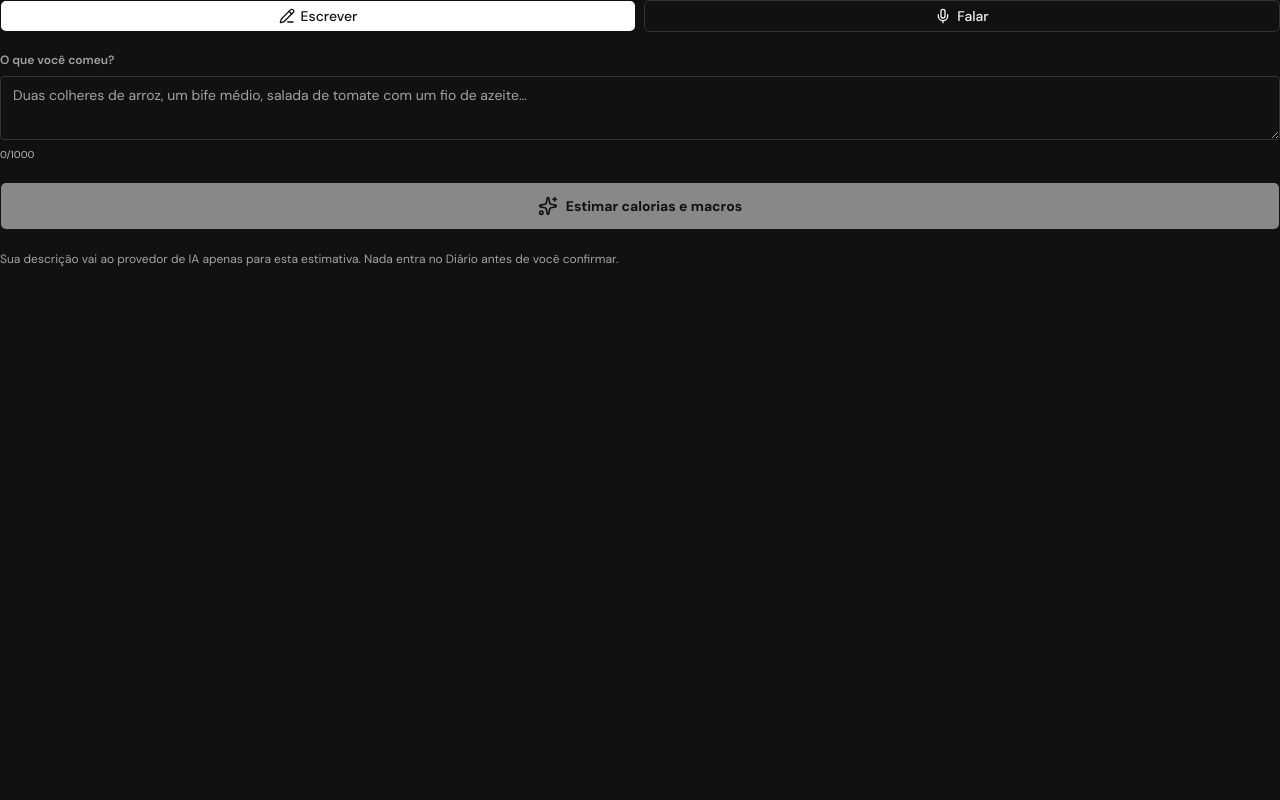
Test case: RegistroPorDescricao › avisa antes de substituir um Consumo Real existente, e cancelar não grava
Type "arroz e bife" into the text box named "Descrição da refeição".
click(640, 108); type("arroz e bife")  # box [0, 76, 1279, 140]
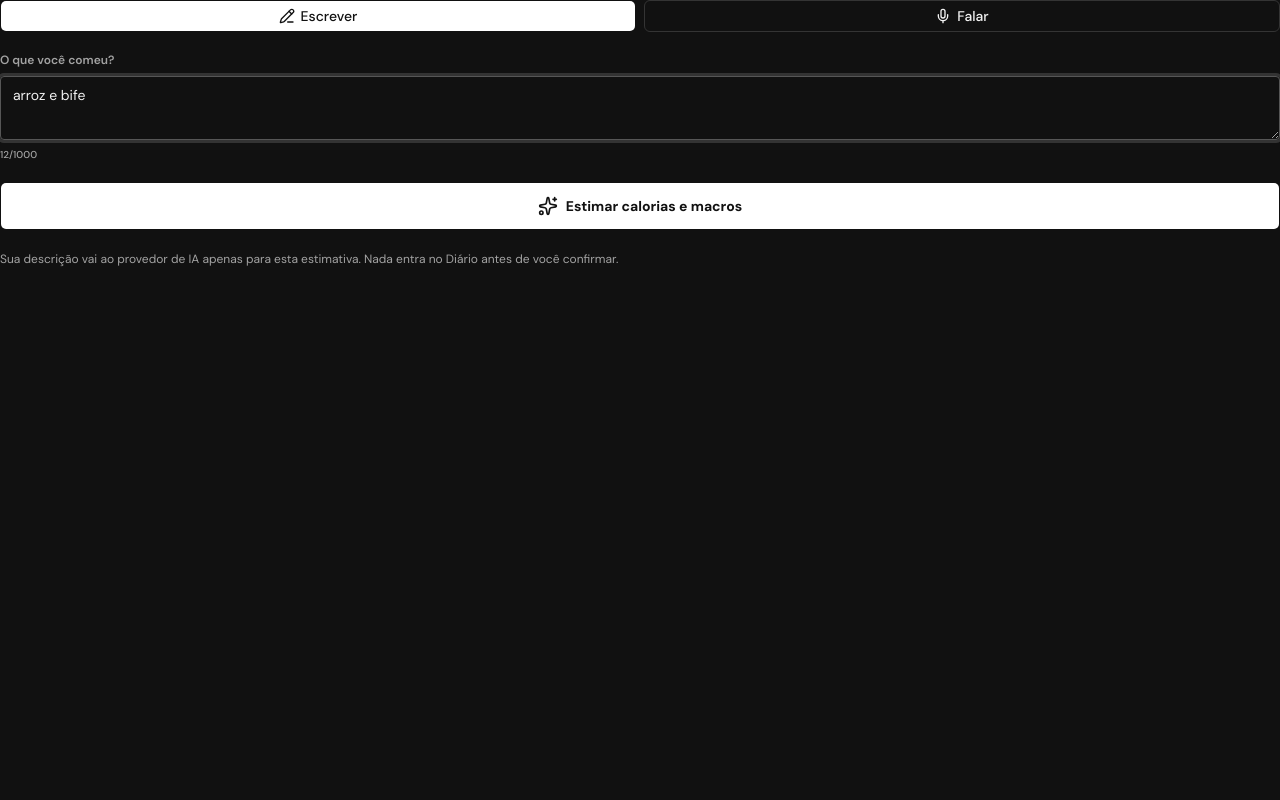
Click the button "Estimar calorias e macros".
click(640, 206)  # box [0, 182, 1279, 230]
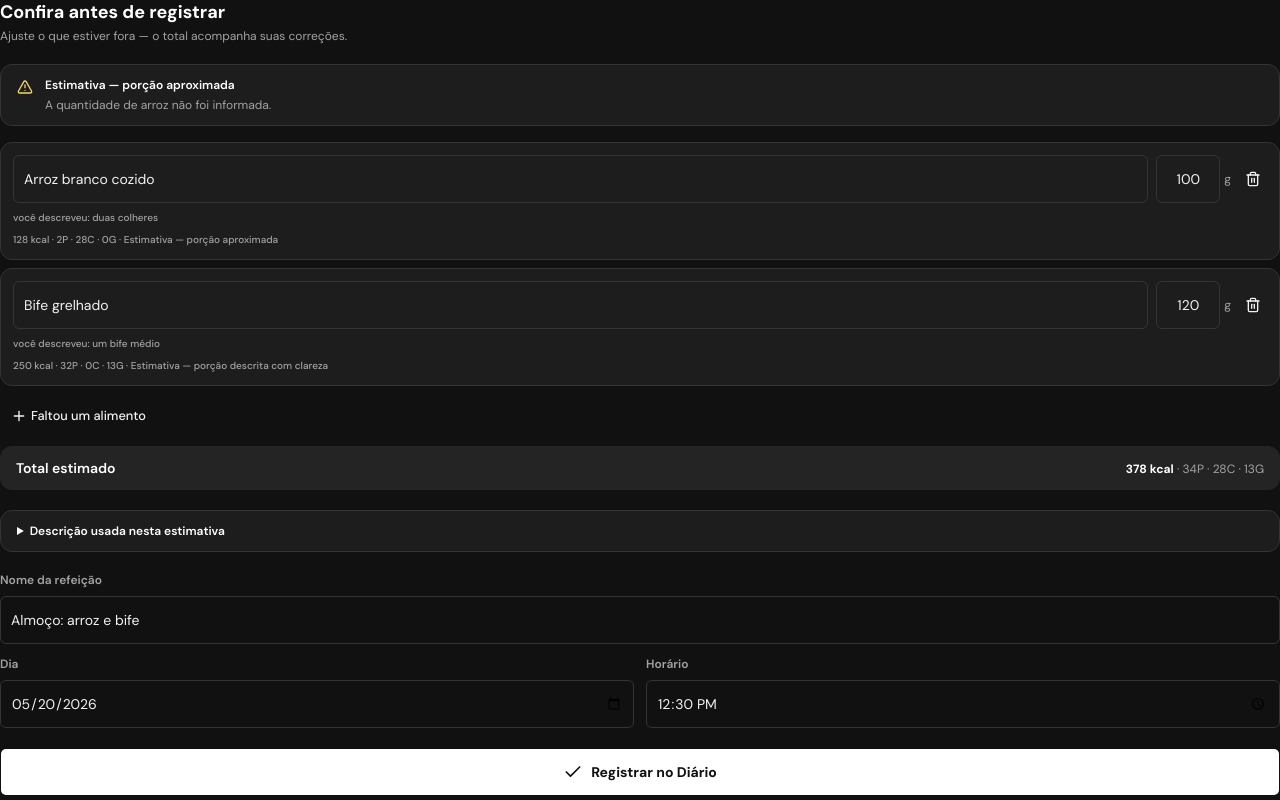
expect the heading "Confira antes de registrar" is shown: met, box [0, 0, 225, 24]
Click the button "Registrar no Diário".
click(640, 772)  # box [0, 748, 1279, 796]
(page scrolled)
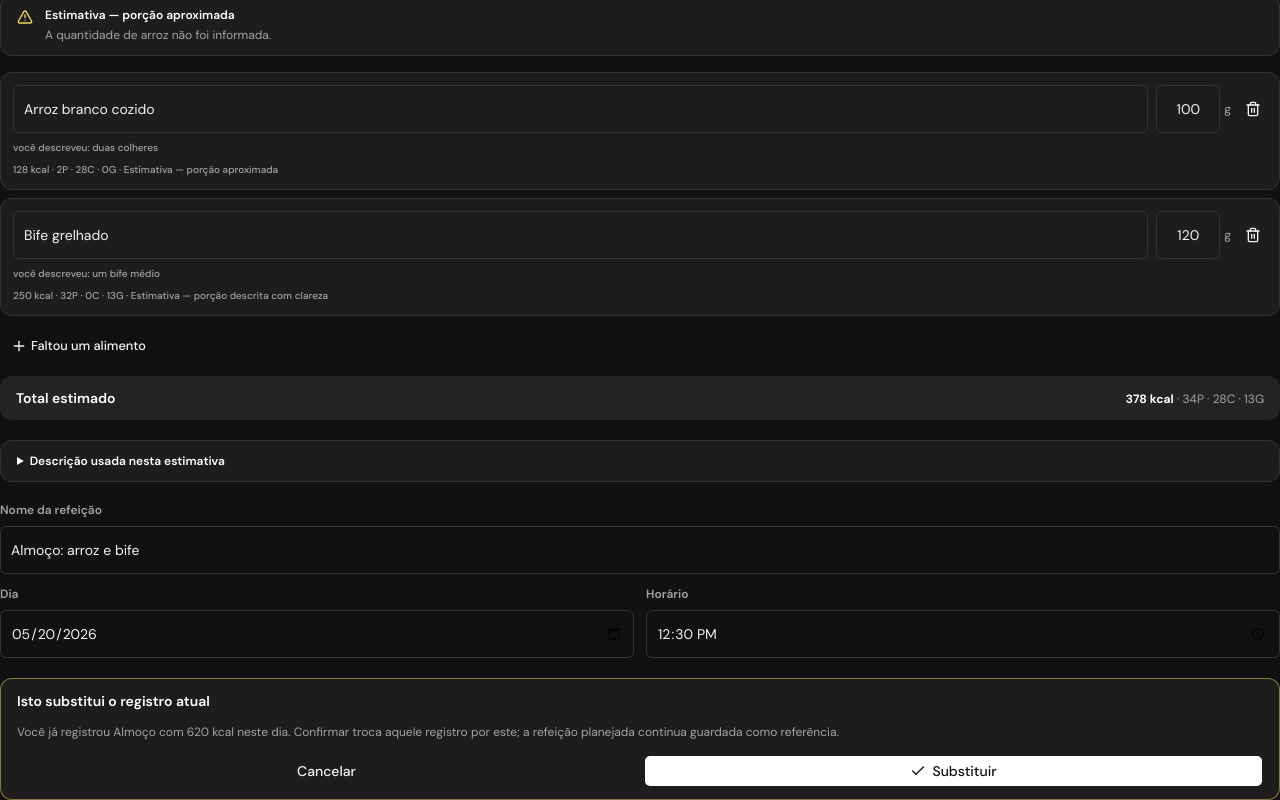
expect the text "620 kcal" is shown: met, box [17, 724, 839, 740]
Click the button "Cancelar".
click(326, 770)  # box [17, 754, 636, 786]
(page scrolled)
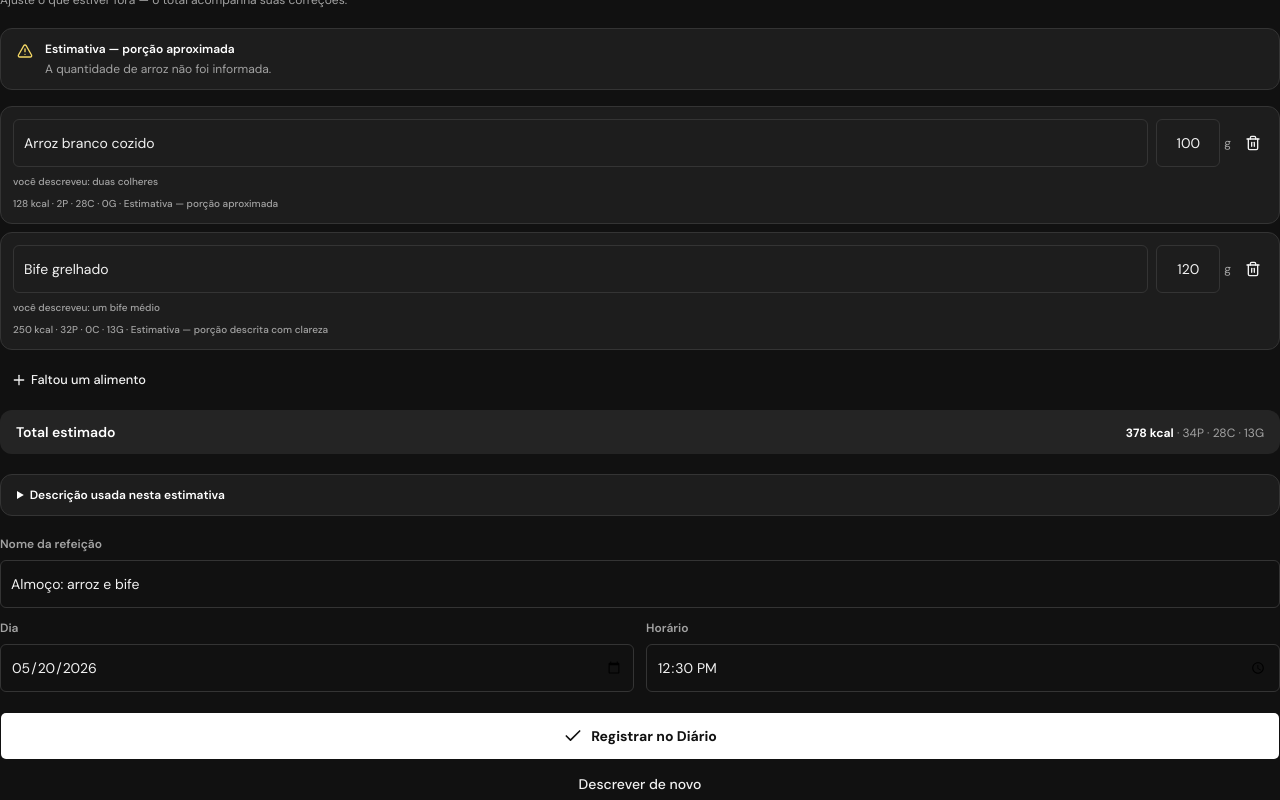
expect the button "Registrar no Diário" is shown: met, box [0, 712, 1279, 760]
